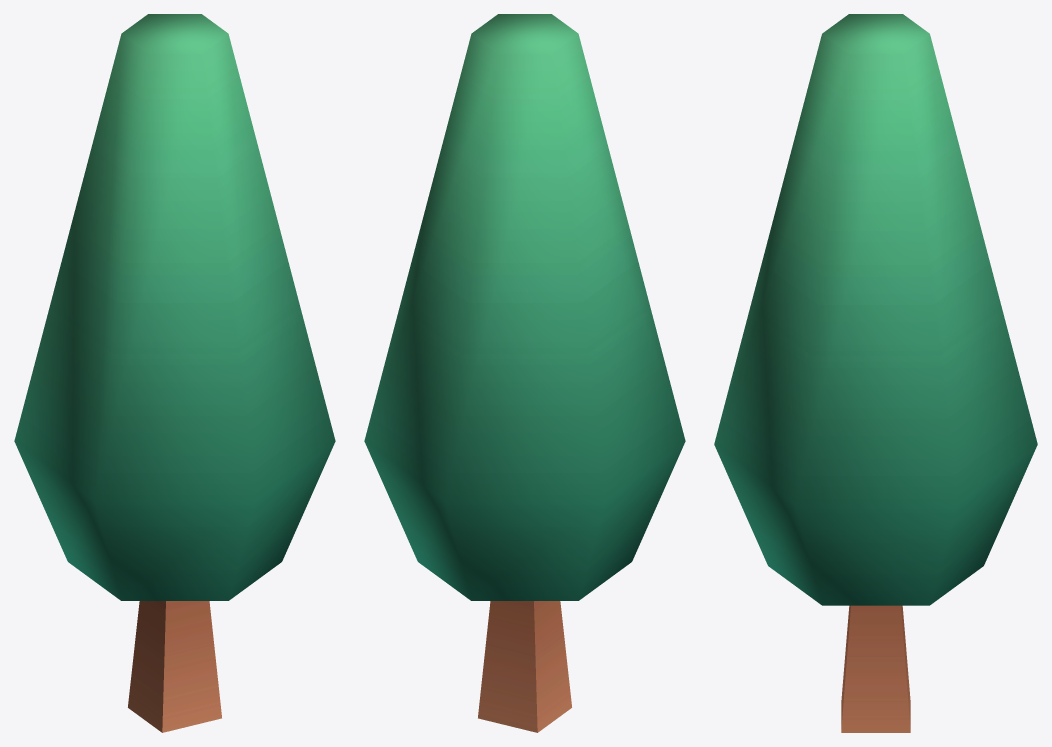
Rendered from tree-small.glb.
The picture shows the model from 3 angles, left to right: view 1: azimuth 30°, elevation 25°; view 2: azimuth 150°, elevation 25°; view 3: azimuth 270°, elevation 25°; orthographic projection.
Parts seen in each view (by area): view 1: tree-small; view 2: tree-small; view 3: tree-small.
Part boxes in pixels (x1=…): tree-small: x1=14, y1=14, x2=335, y2=732; tree-small: x1=364, y1=14, x2=685, y2=732; tree-small: x1=714, y1=14, x2=1037, y2=732.
Size of the model in its own units: 0.2104 by 0.567 by 0.243.
Materials: 1 (1 with a texture image).
